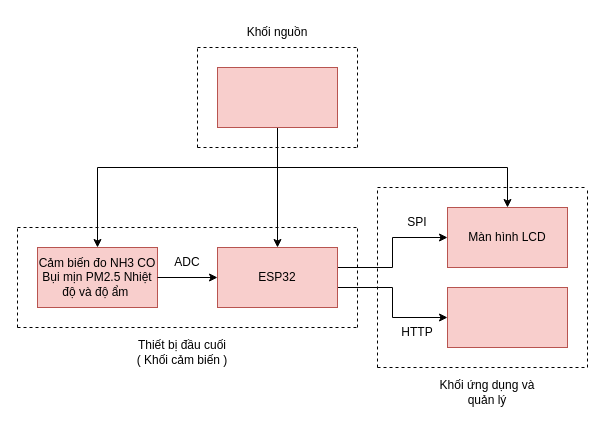
The diagram is 606 pixels wide and 424 high, and some of its shapes have lost their labels. The centre of each missing label's shape, as x and y in pixels:
"5V Adapter" belongs at (277,97).
"Firebase" belongs at (507,317).
